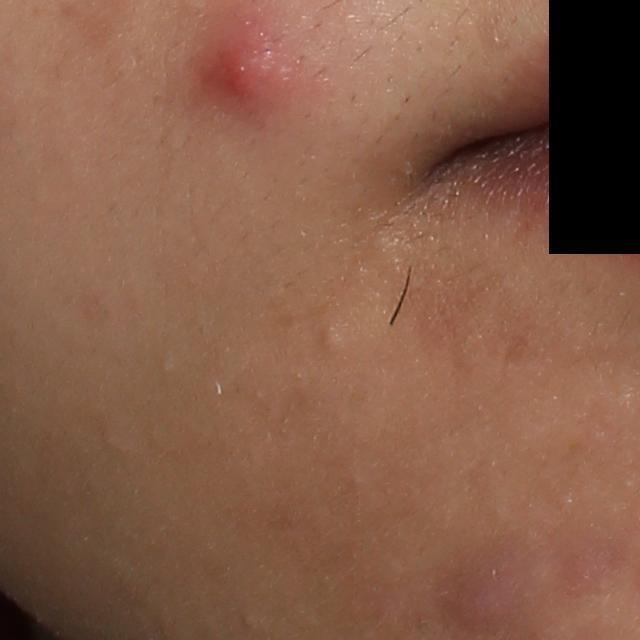comedo: (321, 318, 344, 352), (158, 356, 181, 377), (241, 608, 263, 629), (103, 432, 124, 453)
papule: (193, 24, 291, 113)
